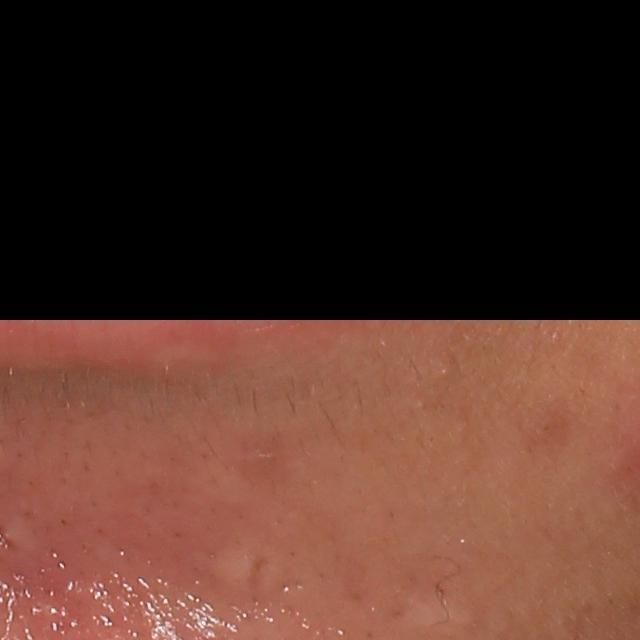hypertrophic_scar: (403, 587, 473, 634), (211, 548, 256, 585)
